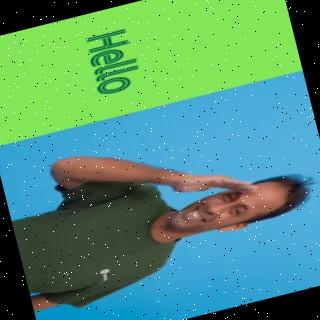Hello: (0, 100, 320, 316)
